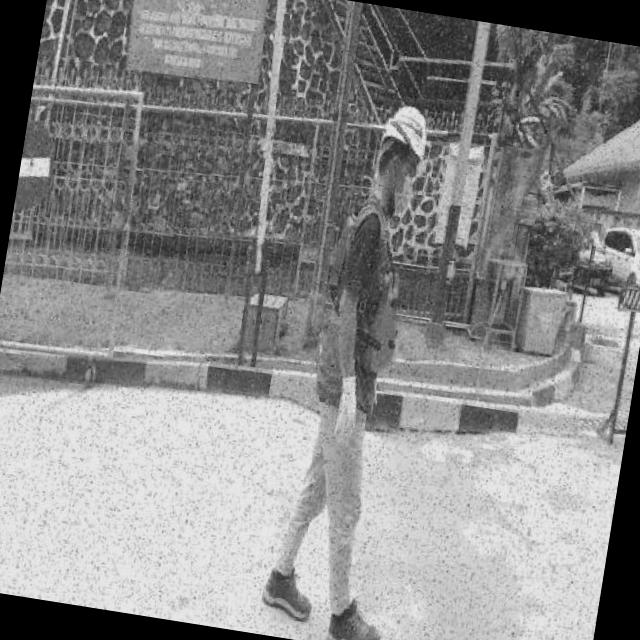boots: (258, 556, 321, 626), (321, 593, 386, 640)
helmet: (379, 100, 434, 164)
vest: (316, 208, 422, 379)
